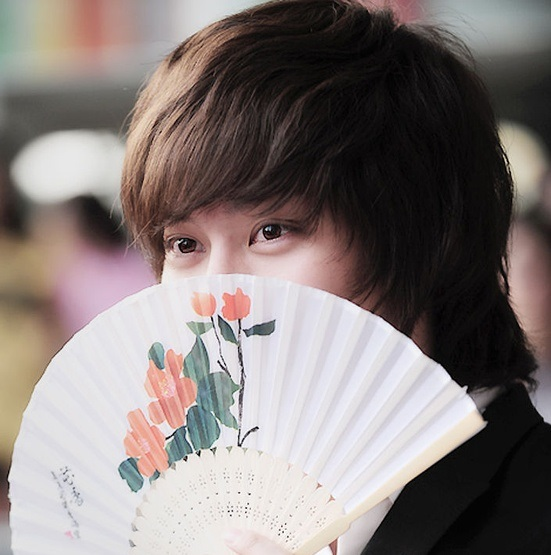face: (156, 123, 357, 389)
